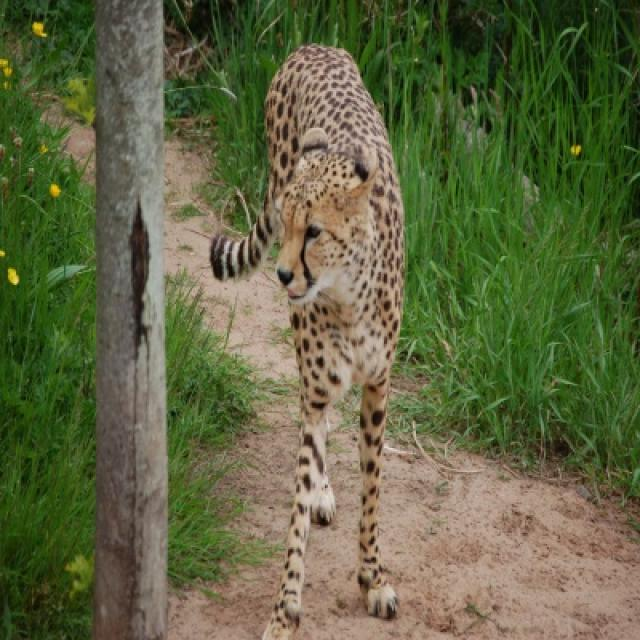Cheetah: (210, 45, 406, 638)
